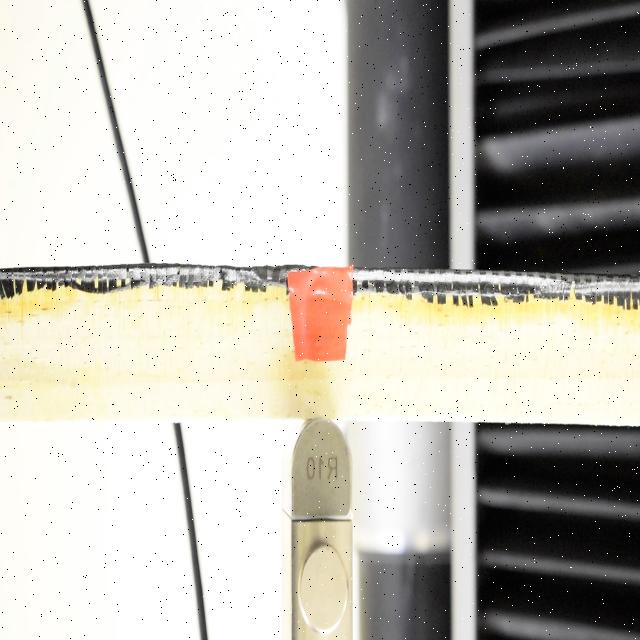wood: (0, 264, 639, 420)
